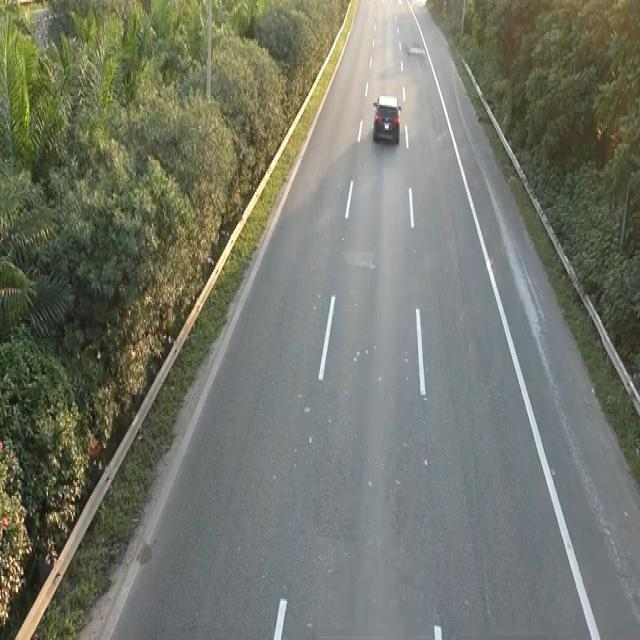car: (370, 90, 402, 146)
